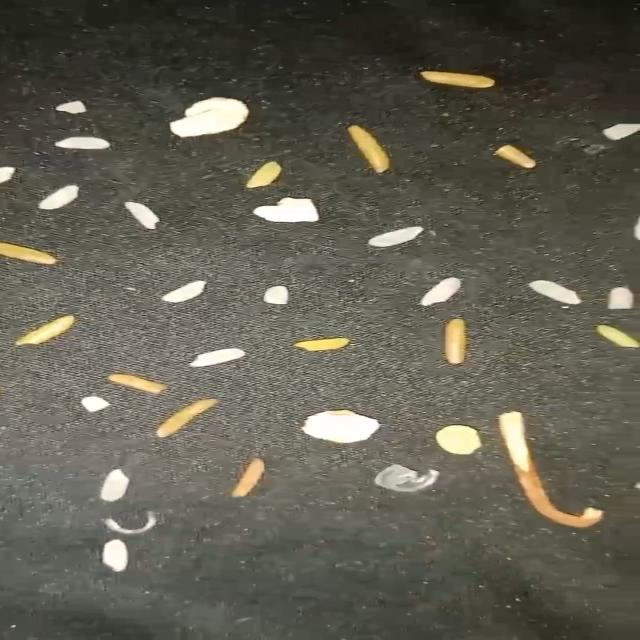Broken: (157, 398, 222, 438), (346, 124, 391, 173), (16, 315, 75, 347), (231, 458, 268, 498), (0, 241, 58, 265), (422, 70, 494, 89), (106, 374, 170, 394), (596, 324, 640, 348), (494, 144, 536, 169), (245, 160, 282, 188), (446, 318, 467, 364), (294, 337, 350, 352), (602, 124, 640, 142), (609, 286, 636, 310), (81, 396, 111, 414), (264, 286, 292, 305), (54, 101, 91, 114)
Full: (528, 280, 582, 305), (368, 226, 426, 248), (419, 277, 461, 306), (38, 185, 81, 210), (125, 201, 162, 230), (162, 280, 208, 303), (101, 469, 129, 502), (102, 539, 130, 572), (56, 135, 110, 150)
